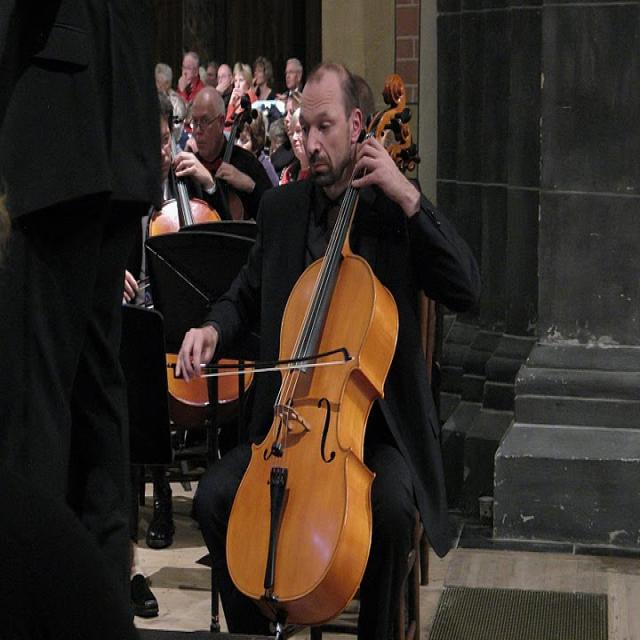cello: (226, 73, 415, 621), (145, 132, 258, 431)
